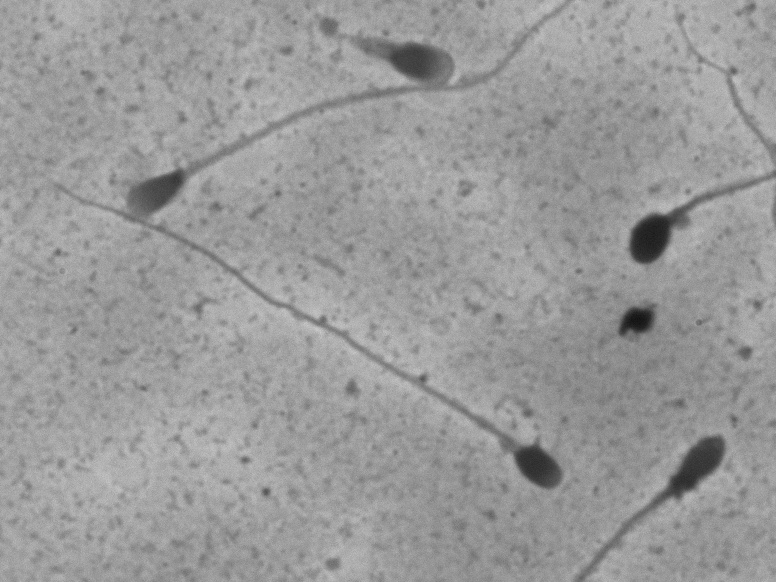Abnormal: (618, 19, 762, 289), (599, 394, 753, 569), (332, 9, 466, 91)
Normal: (30, 159, 578, 514)
